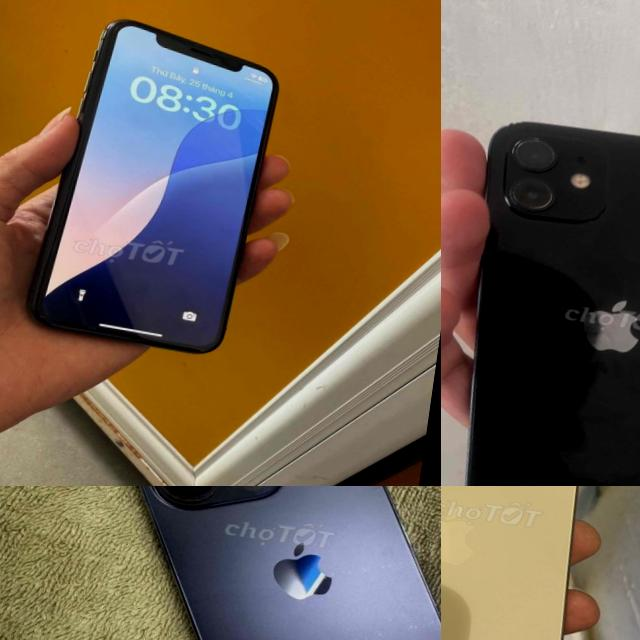gen_12_13: (441, 106, 640, 486)
gen_14: (72, 486, 441, 640), (441, 486, 617, 640)
gen_x_xs: (26, 9, 282, 367)
scratch: (481, 467, 556, 486), (36, 308, 55, 326)
